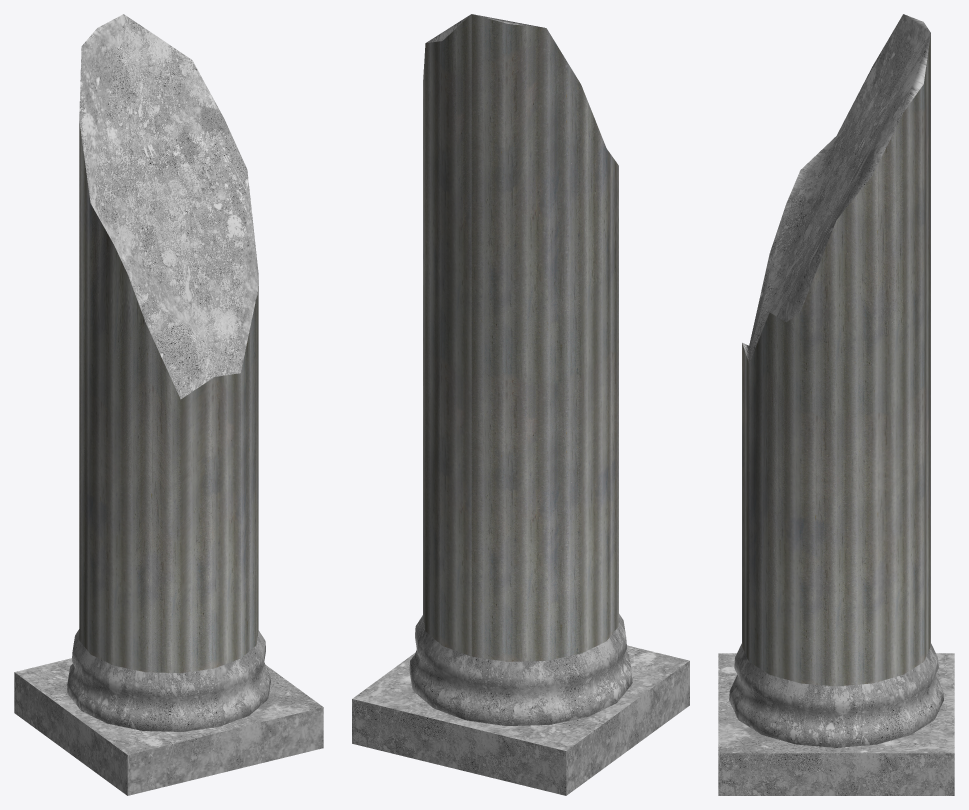
Rendered from Column_broken.FBX.
3 renders of one model, left to right at view 1: azimuth 30°, elevation 25°; view 2: azimuth 150°, elevation 25°; view 3: azimuth 270°, elevation 25°, orthographic. The views are drawn at different scales.
Parts seen in each view (by area): view 1: Cylinder001; view 2: Cylinder001; view 3: Cylinder001.
Part boxes in pixels (x1,y1,x2,y2): Cylinder001: [14, 14, 323, 795]; Cylinder001: [352, 14, 689, 795]; Cylinder001: [718, 14, 954, 795].
Bounding box in the file's own units: 80 × 267 × 80.
3 materials, 2 textured.
